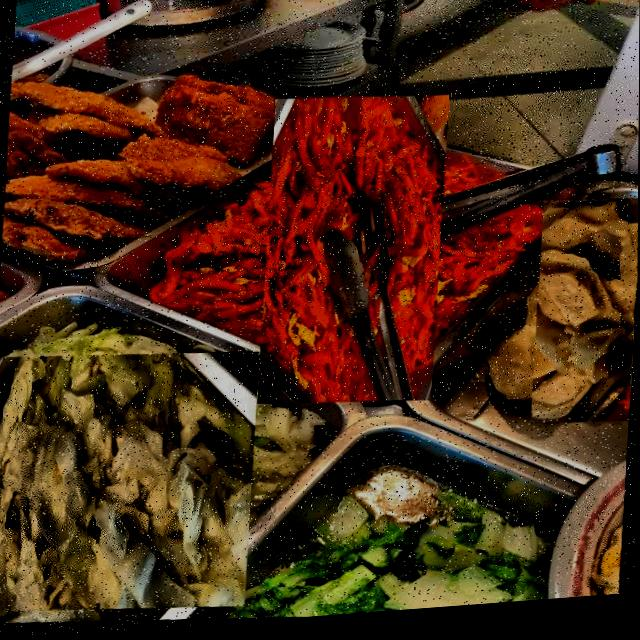Food: (0, 336, 256, 630), (227, 122, 480, 389), (530, 202, 639, 436)
